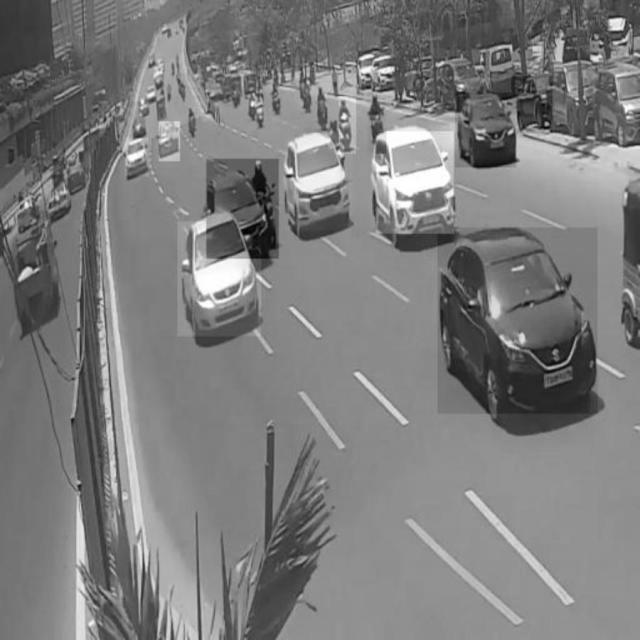accident: (207, 159, 279, 259)
vehicle: (438, 228, 598, 414), (178, 222, 261, 336), (377, 132, 454, 234), (285, 137, 352, 230), (455, 93, 516, 167), (593, 56, 640, 147), (547, 61, 602, 138), (512, 77, 553, 134), (368, 88, 386, 154), (340, 98, 357, 155), (125, 138, 149, 176), (159, 122, 179, 162)
